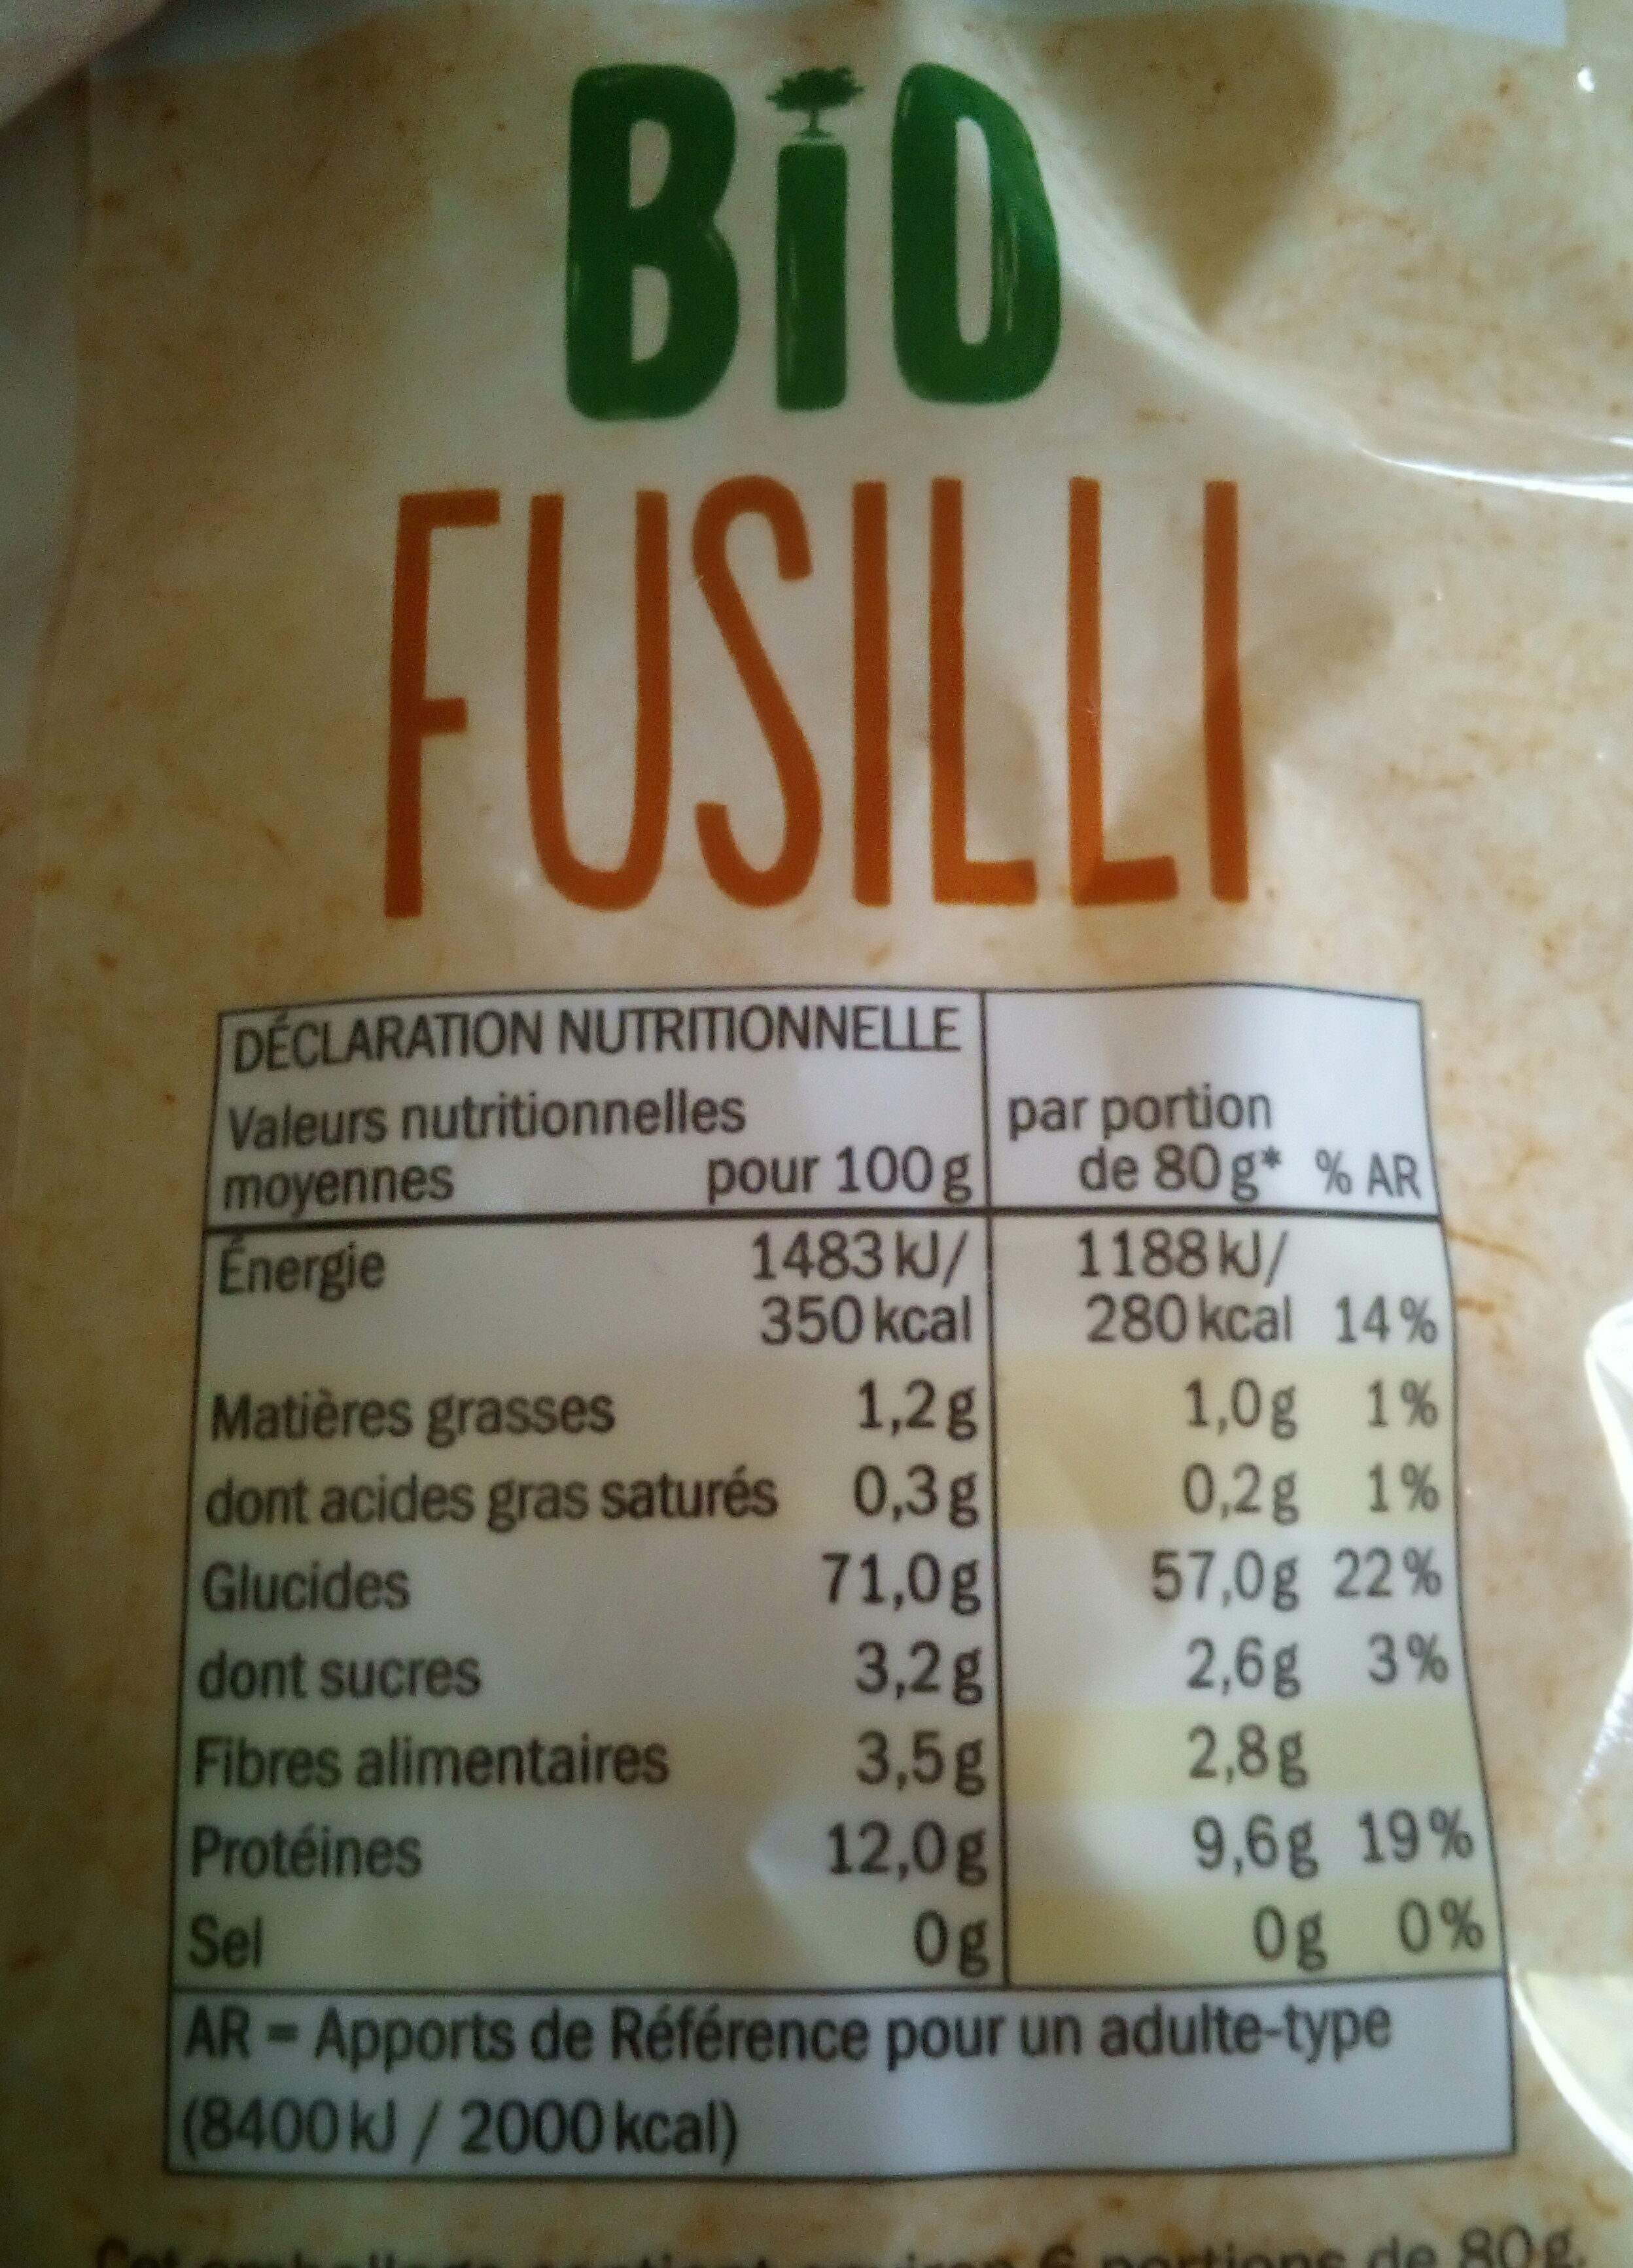column: (197, 1236, 740, 1970), (1002, 1083, 1323, 1976), (750, 1229, 983, 1977), (1330, 1132, 1487, 1955)
table: (159, 976, 1524, 1992)
